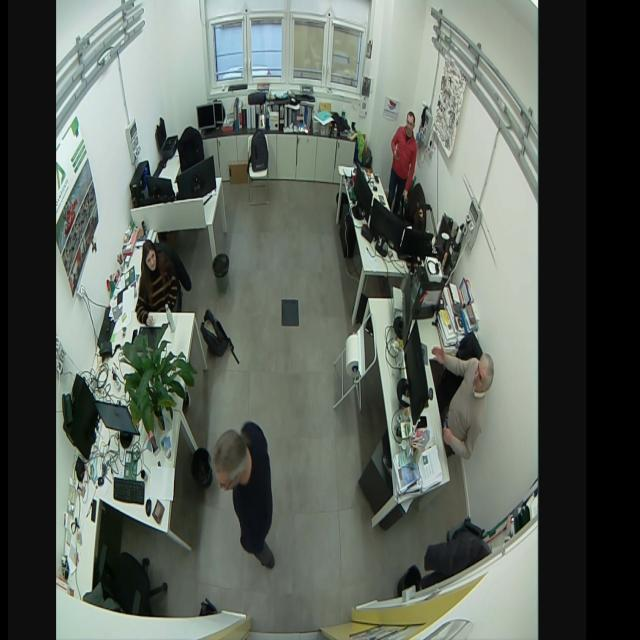Persona: (208, 413, 276, 574), (431, 340, 495, 462), (134, 237, 178, 330), (388, 111, 420, 208)
